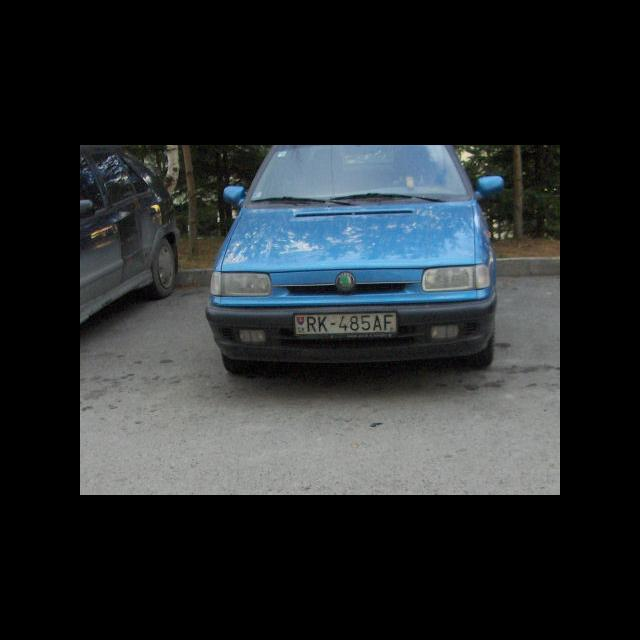Plate: (292, 310, 398, 336)
